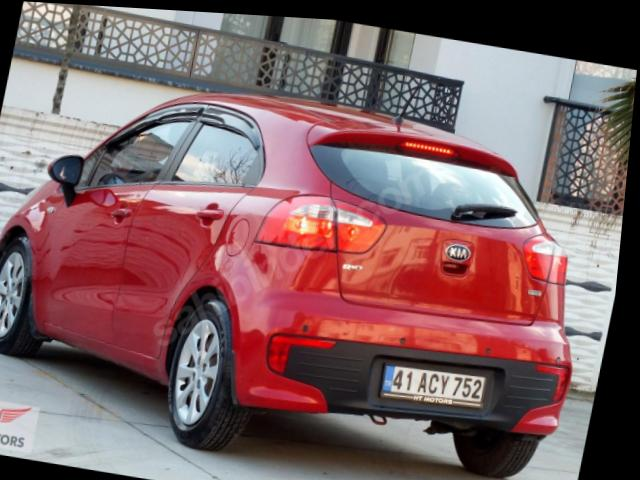plaka: (380, 363, 492, 408)
